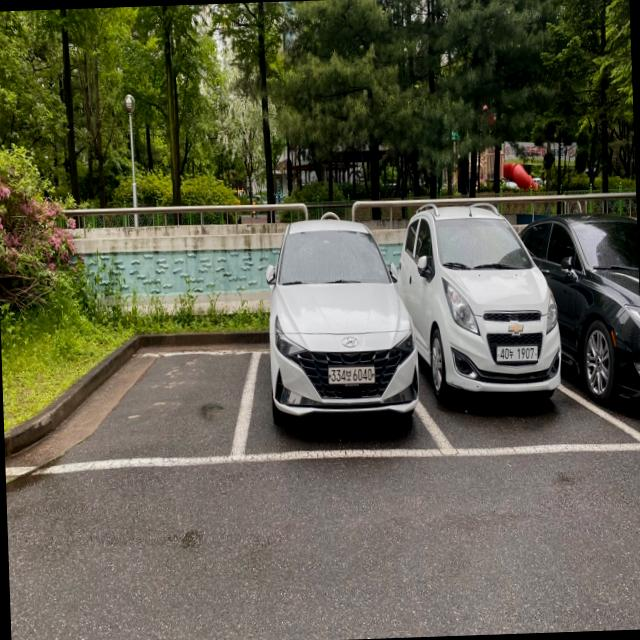car: (263, 211, 421, 437), (410, 200, 564, 410), (557, 206, 640, 413)
free: (6, 343, 263, 475)
